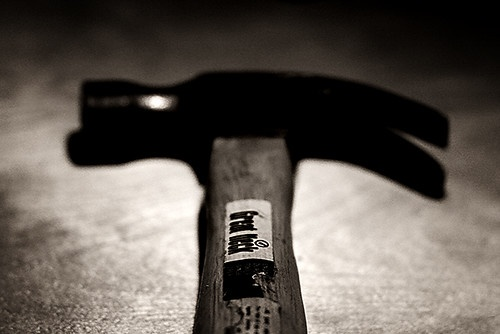hammer: (67, 69, 454, 333)
